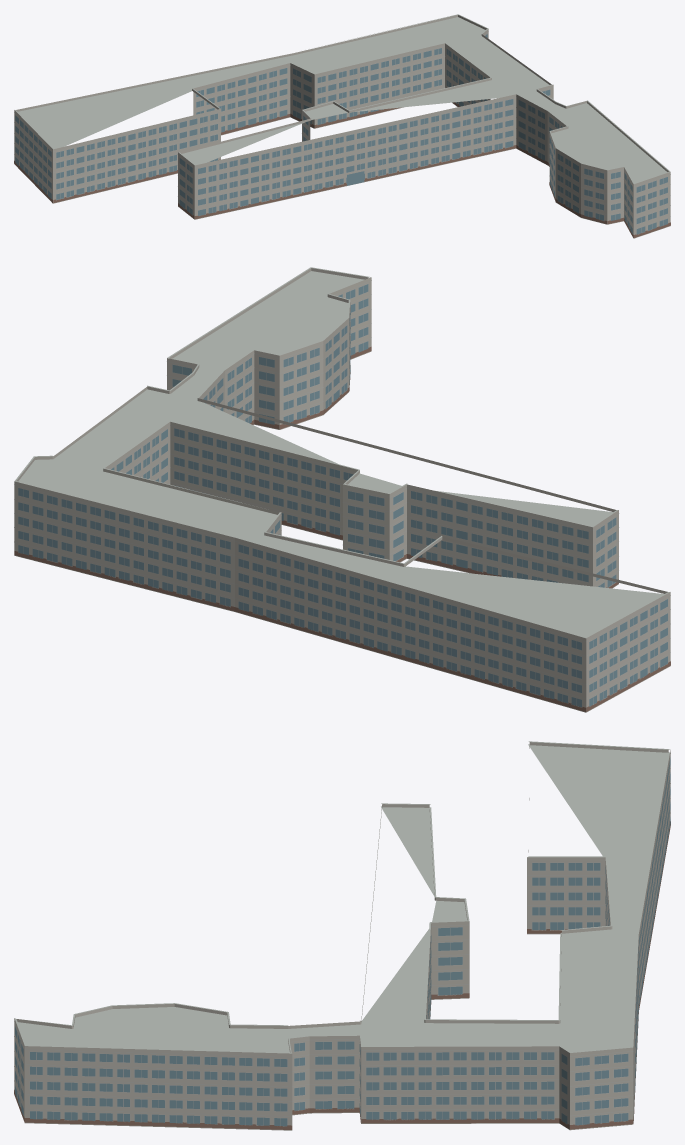
The model's file is public-482a7953-996e-453c-bec3-06bbcee407ef.glb.
3 renders of one model, top to bottom at view 1: azimuth 30°, elevation 25°; view 2: azimuth 150°, elevation 25°; view 3: azimuth 270°, elevation 25°, orthographic. The views are drawn at different scales.
Visible parts, largest first — view 1: public-482a7953-996e-453c-bec3-06bbcee407ef; view 2: public-482a7953-996e-453c-bec3-06bbcee407ef; view 3: public-482a7953-996e-453c-bec3-06bbcee407ef.
Boxes of the visible parts, box(x1,y1,x2,y2) form: public-482a7953-996e-453c-bec3-06bbcee407ef: box(14, 14, 670, 238); public-482a7953-996e-453c-bec3-06bbcee407ef: box(14, 267, 670, 712); public-482a7953-996e-453c-bec3-06bbcee407ef: box(14, 741, 670, 1130).
Bounding box in the file's own units: 133 × 15.25 × 118.
